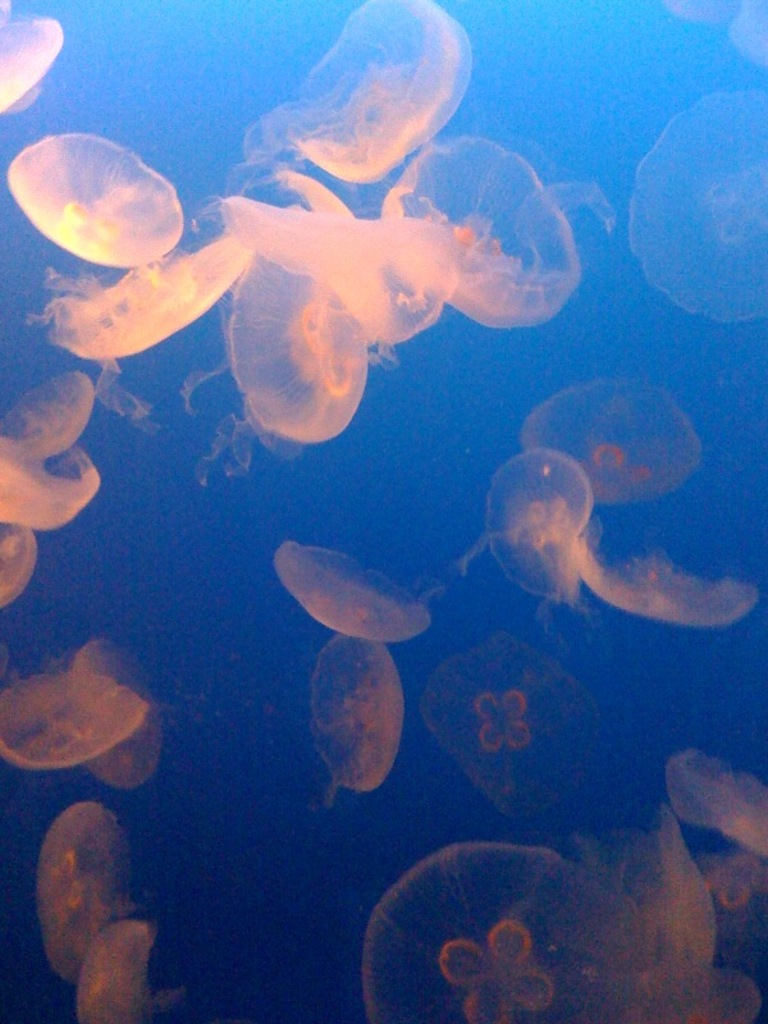Jellyfish: (0, 0, 766, 1022), (6, 125, 193, 250)
